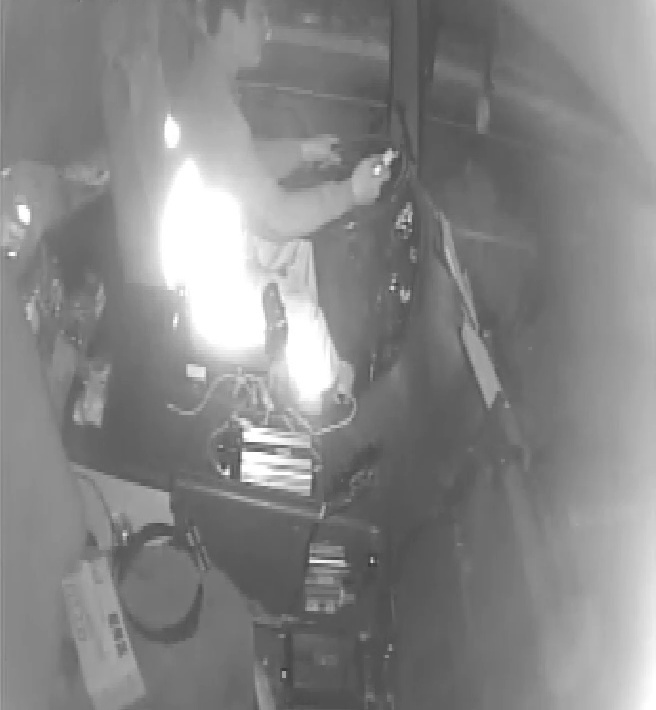cellphone: (355, 147, 397, 188)
